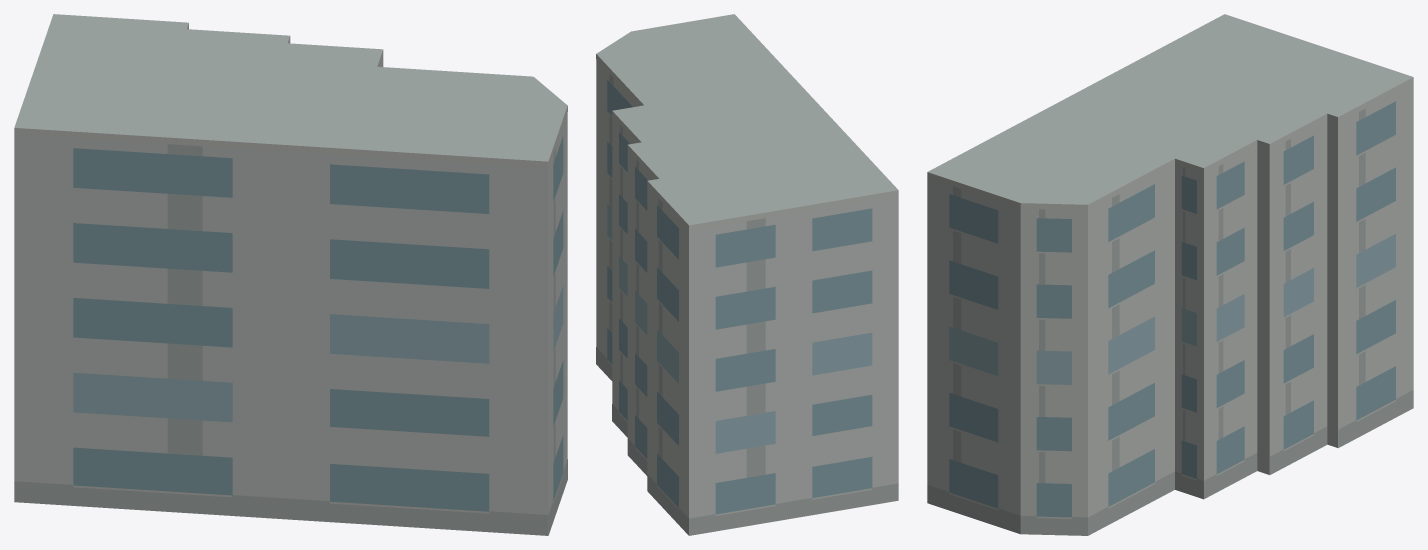
Rendered from survey-upis-32804021.glb.
The picture shows the model from 3 angles, left to right: view 1: azimuth 30°, elevation 25°; view 2: azimuth 150°, elevation 25°; view 3: azimuth 270°, elevation 25°; orthographic projection. The views are drawn at different scales.
Parts seen in each view (by area): view 1: survey-upis-32804021.tmp; view 2: survey-upis-32804021.tmp; view 3: survey-upis-32804021.tmp.
Part boxes in pixels (<box>): survey-upis-32804021.tmp: <box>14,14,567,535</box>; survey-upis-32804021.tmp: <box>596,14,898,535</box>; survey-upis-32804021.tmp: <box>927,14,1413,535</box>.
Bounding box in the file's own units: 17.19 × 13.9 × 18.52.
